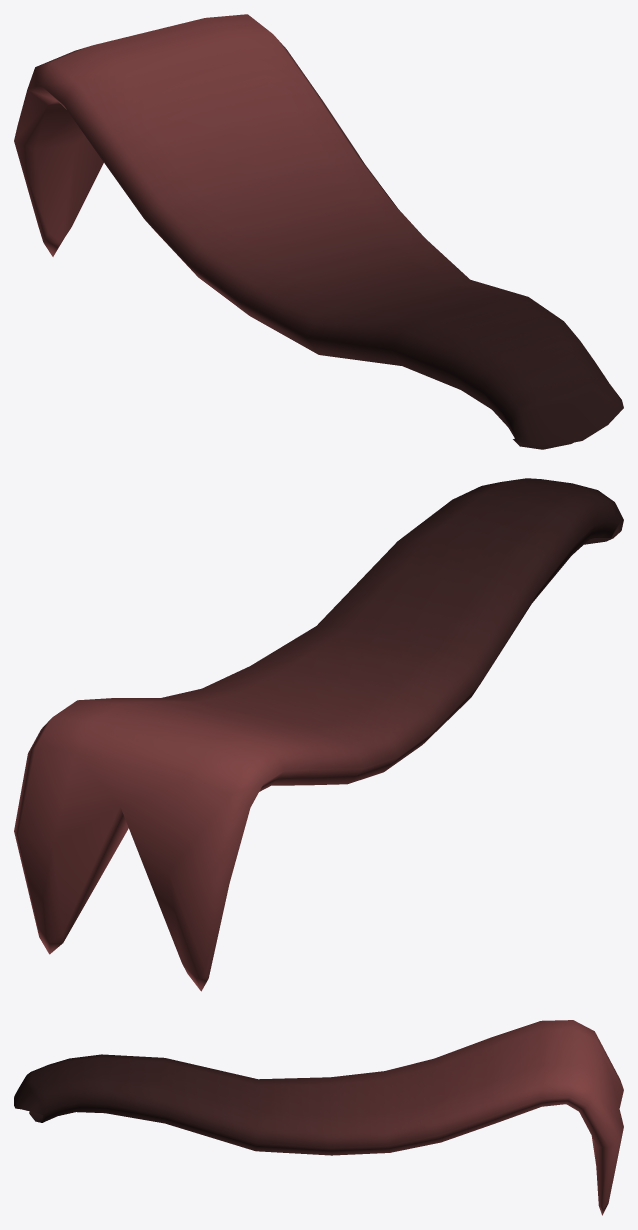
The model's file is forked.glb.
3 renders of one model, top to bottom at view 1: azimuth 30°, elevation 25°; view 2: azimuth 150°, elevation 25°; view 3: azimuth 270°, elevation 25°, orthographic. The views are drawn at different scales.
Visible parts, largest first — view 1: cc_forked8; view 2: cc_forked8; view 3: cc_forked8.
Part boxes in pixels (box(x1,y1,x2,y2)): cc_forked8: box(14, 14, 623, 449); cc_forked8: box(14, 478, 623, 991); cc_forked8: box(14, 1020, 623, 1215).
Bounding box in the file's own units: 0.0469 × 0.0447 × 0.1714.
1 material, 1 textured.
